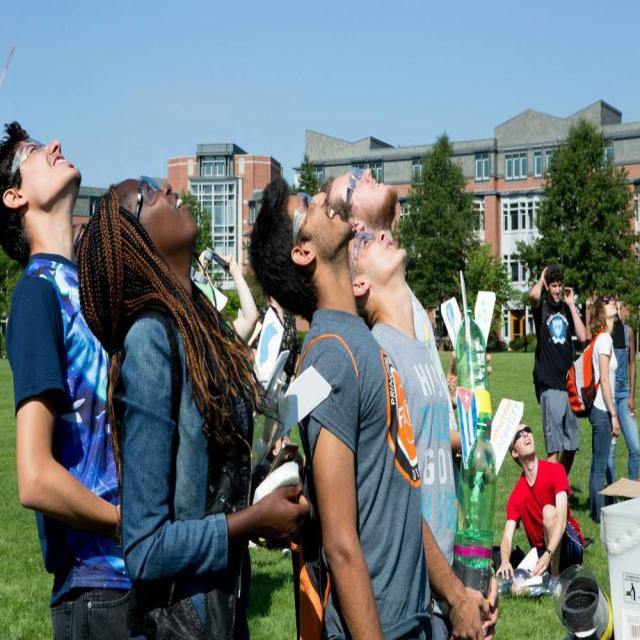body: (66, 175, 318, 639), (0, 112, 172, 639), (248, 172, 439, 640), (346, 226, 499, 640), (494, 420, 586, 598), (563, 288, 625, 526), (527, 258, 589, 481), (582, 293, 621, 525), (250, 282, 298, 456), (442, 336, 496, 474), (316, 163, 399, 233)
